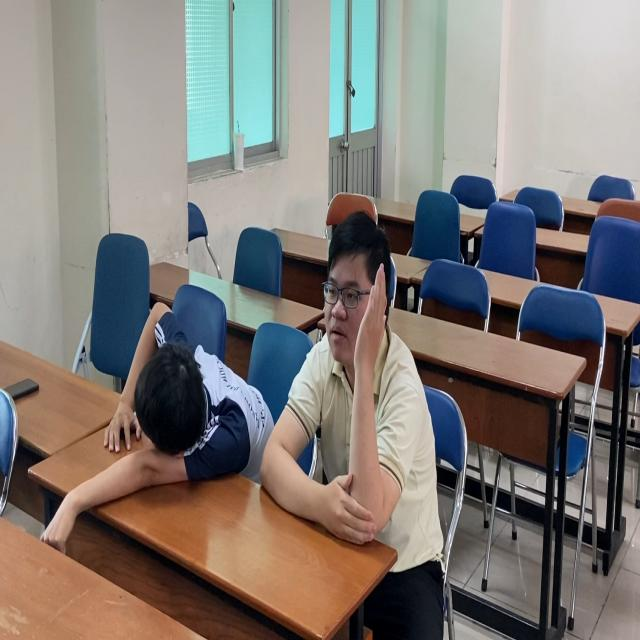raise_hand: (311, 194, 424, 547)
sleep: (88, 302, 270, 491)
